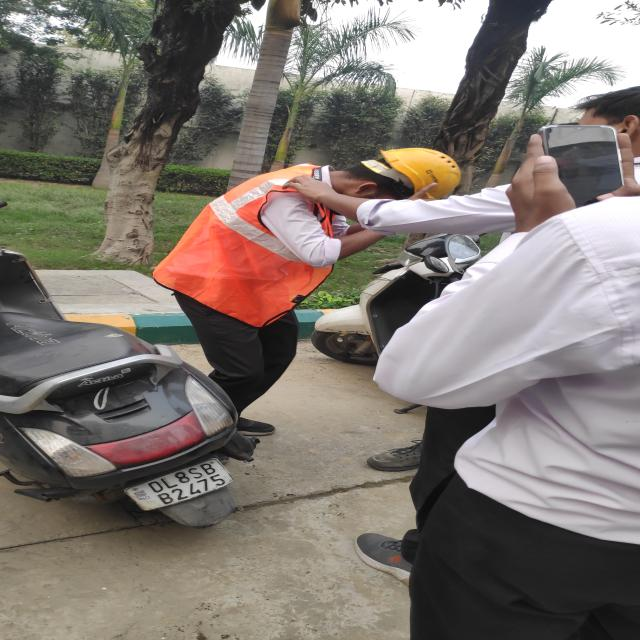safe: (159, 142, 466, 468)
